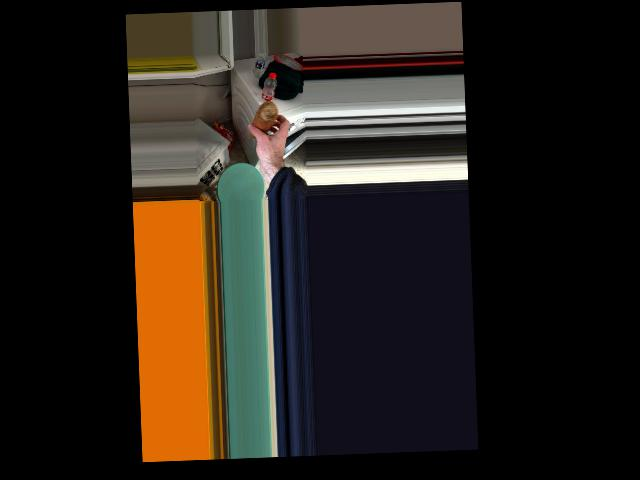sweet_potato: (246, 103, 280, 143)
